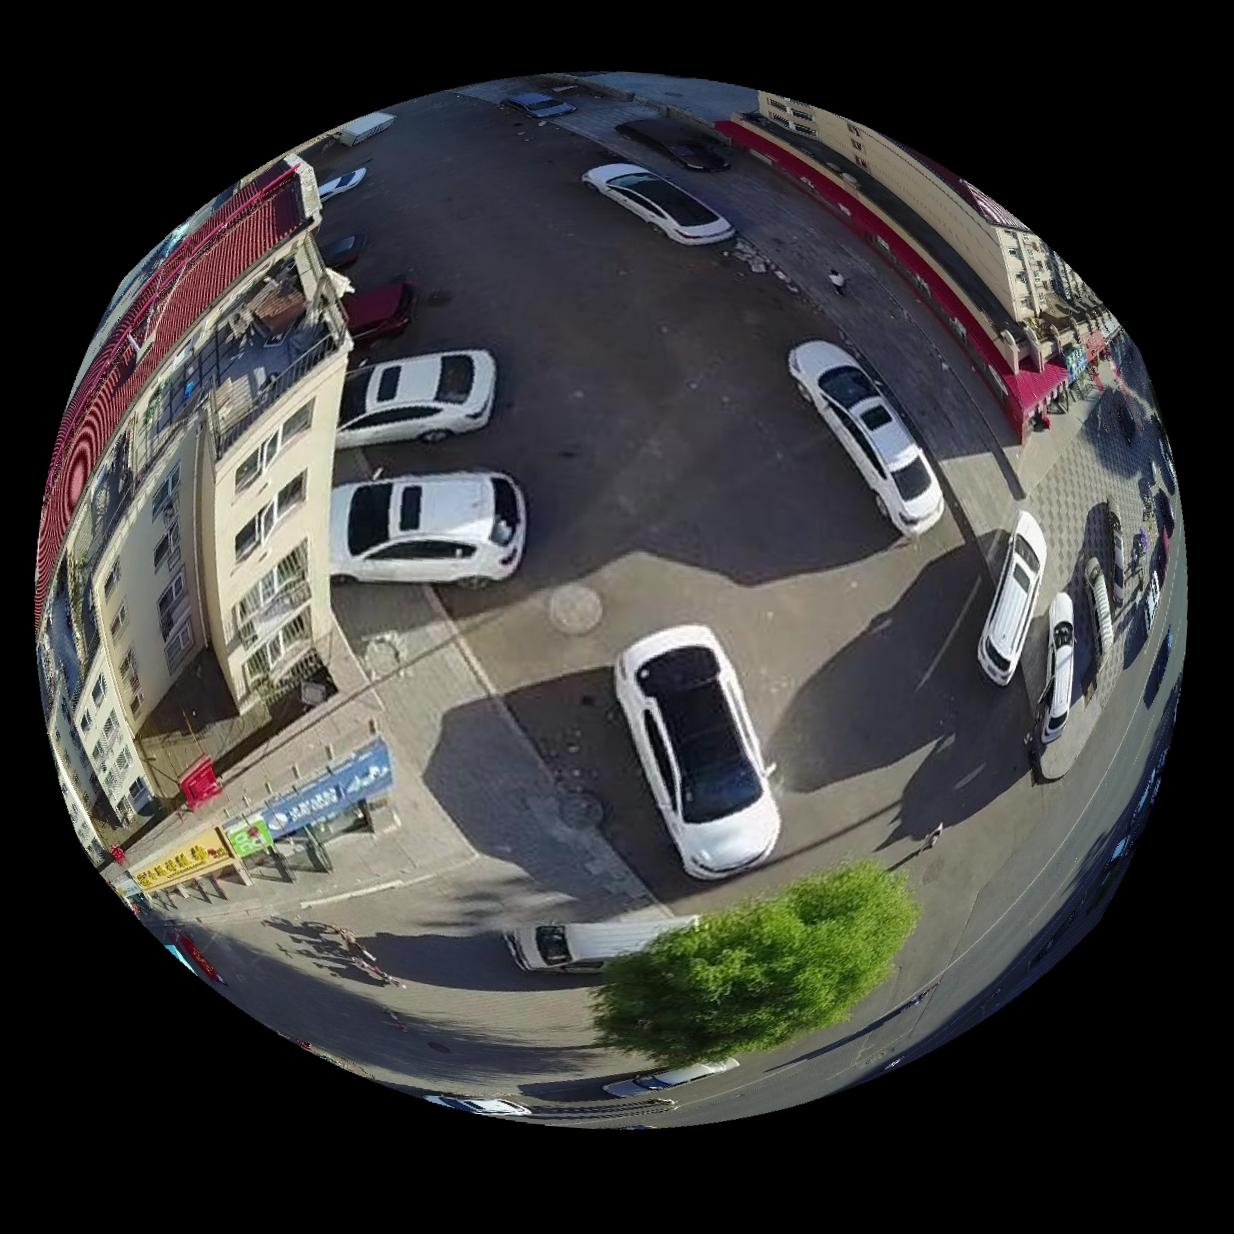building: (34, 154, 350, 846), (716, 90, 1122, 437)
cars: (614, 625, 781, 880), (789, 340, 945, 536), (331, 471, 527, 583), (336, 349, 495, 449), (582, 163, 736, 244), (979, 511, 1048, 686), (504, 916, 699, 974), (1041, 592, 1078, 745), (1087, 557, 1116, 655), (315, 165, 366, 200), (283, 154, 307, 165)
trees: (593, 863, 920, 1069)
